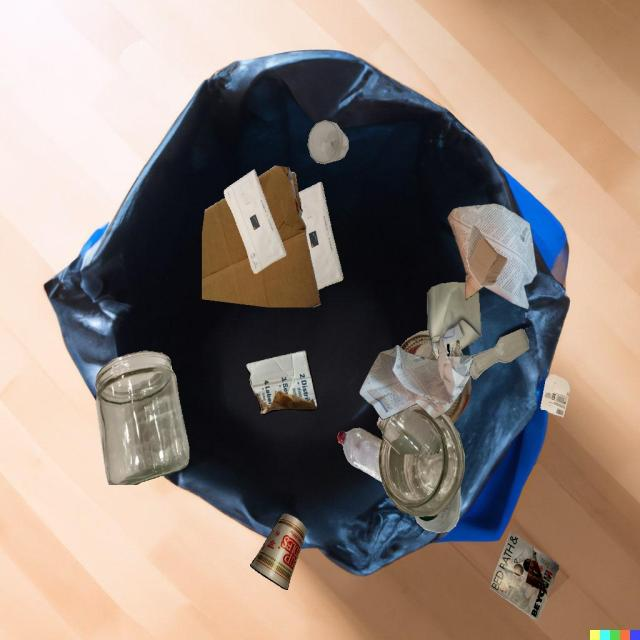cardboard: (202, 166, 320, 307), (246, 350, 318, 415), (466, 225, 508, 286)
glass: (95, 351, 189, 485), (379, 405, 465, 517), (377, 407, 441, 454), (469, 329, 529, 379), (418, 352, 459, 418), (308, 120, 349, 164), (400, 330, 436, 360)
paper: (447, 203, 537, 310), (359, 337, 473, 420), (224, 170, 286, 274), (490, 532, 559, 621), (298, 182, 343, 290), (427, 282, 481, 359), (540, 374, 570, 417)
plastic: (338, 428, 382, 483), (415, 486, 461, 533)
trash: (250, 513, 307, 590)
